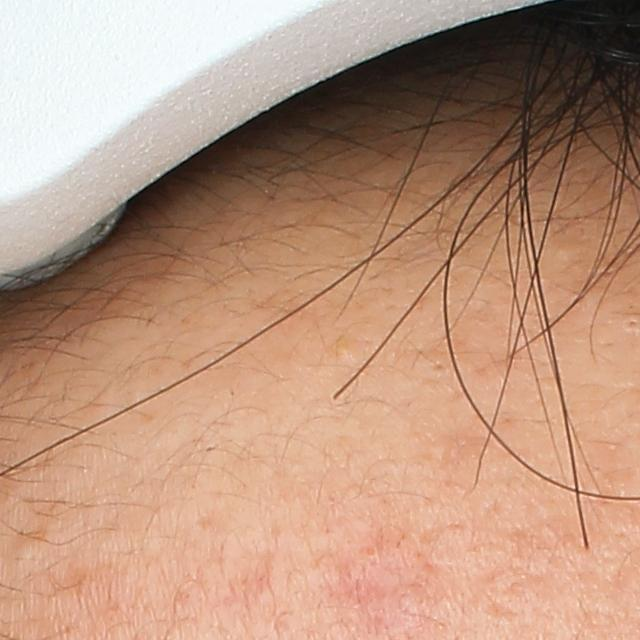comedo: (7, 532, 46, 565), (331, 337, 354, 361), (362, 543, 379, 559)
